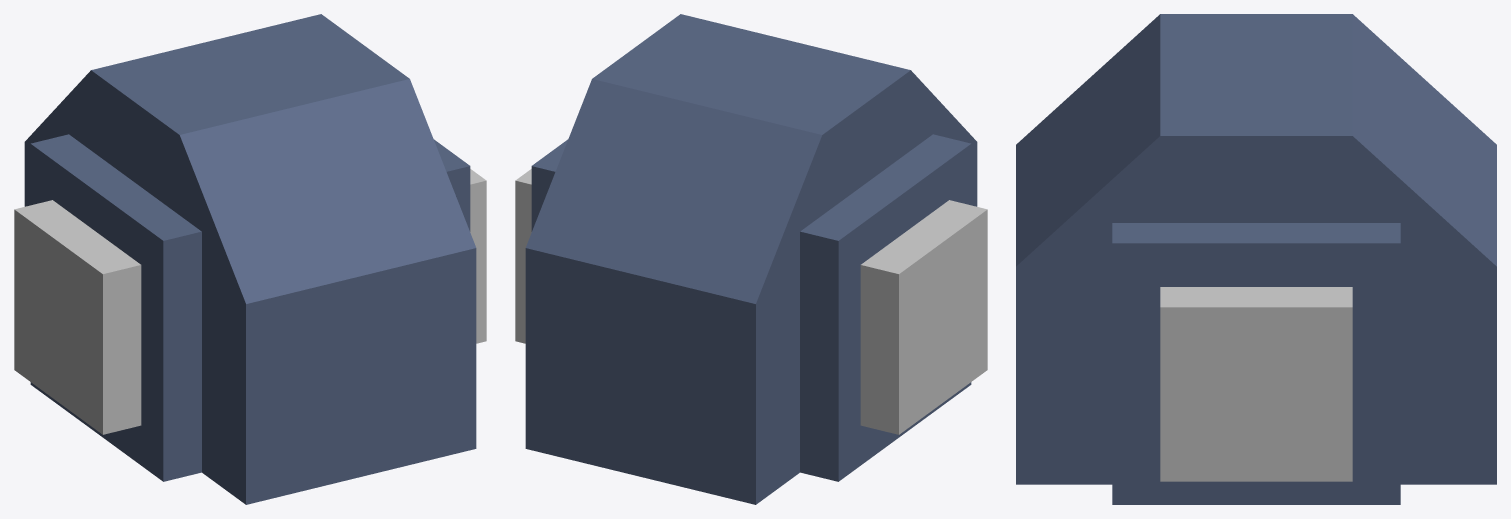
Rendered from DOUBLE_01.obj.
3 renders of one model, left to right at view 1: azimuth 30°, elevation 25°; view 2: azimuth 150°, elevation 25°; view 3: azimuth 270°, elevation 25°, orthographic. The views are drawn at different scales.
Visible parts, largest first — view 1: DOUBLE, LIGHT; view 2: DOUBLE, LIGHT; view 3: DOUBLE, LIGHT.
Boxes of the visible parts, <box> form: DOUBLE: <box>24,14,476,504</box>; LIGHT: <box>14,169,486,434</box>; DOUBLE: <box>525,14,977,504</box>; LIGHT: <box>515,169,987,434</box>; DOUBLE: <box>1016,14,1496,504</box>; LIGHT: <box>1160,287,1352,481</box>.
Bounding box in the file's own units: 0.625 × 0.5 × 0.625.
2 materials, 1 textured.
